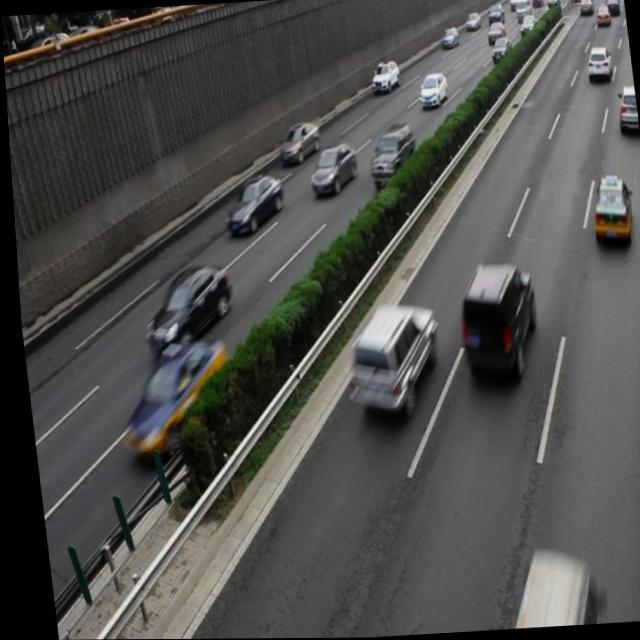car: (105, 336, 230, 462), (336, 300, 438, 424), (447, 258, 538, 382), (133, 261, 233, 355), (218, 171, 284, 237), (362, 124, 417, 189), (584, 174, 631, 246), (303, 142, 357, 197), (273, 120, 319, 168), (612, 83, 638, 135)
truck: (484, 547, 591, 630)
